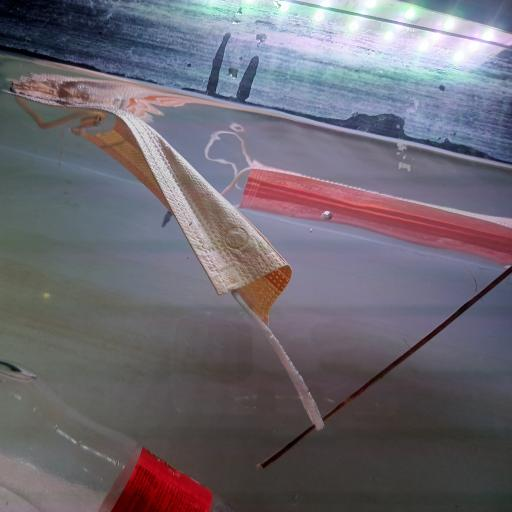mask: (4, 78, 360, 432), (208, 126, 512, 273)
plastic_bottle: (2, 353, 238, 512)
